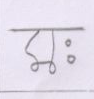anusvara: (65, 40, 71, 46)
